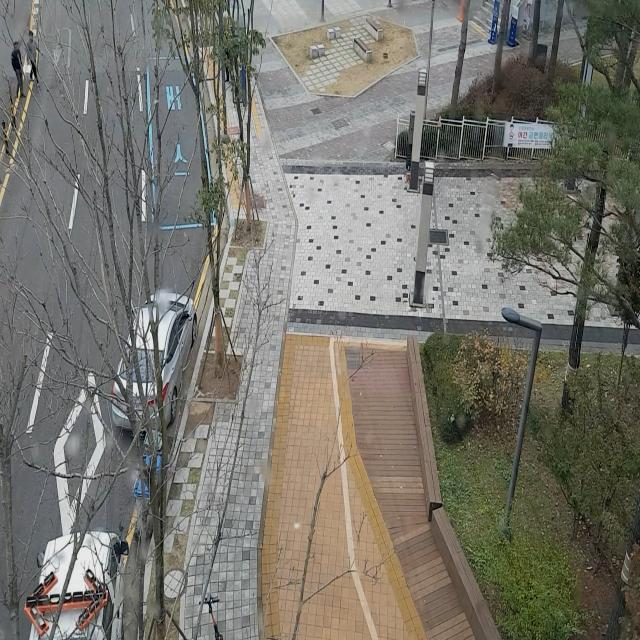Car: (92, 258, 216, 441)
Truck: (14, 510, 146, 640)
